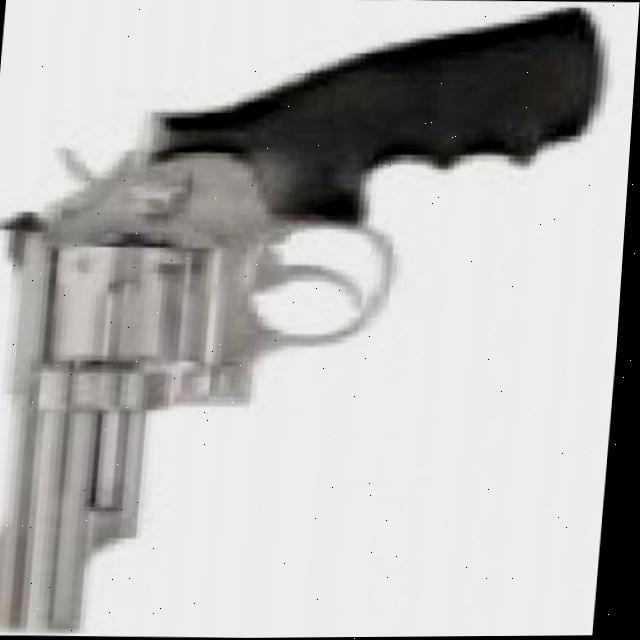gun: (0, 8, 602, 640)
